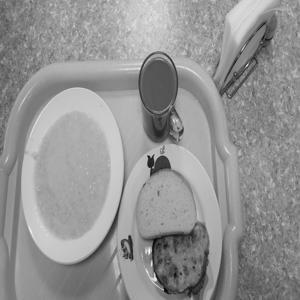bread: (135, 158, 200, 241)
cheese_sandwich: (142, 223, 210, 290)
coffee: (133, 43, 190, 145)
porridge: (19, 99, 120, 245)
